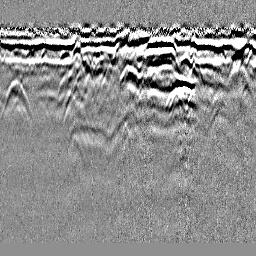cavity: (119, 59, 140, 85)
